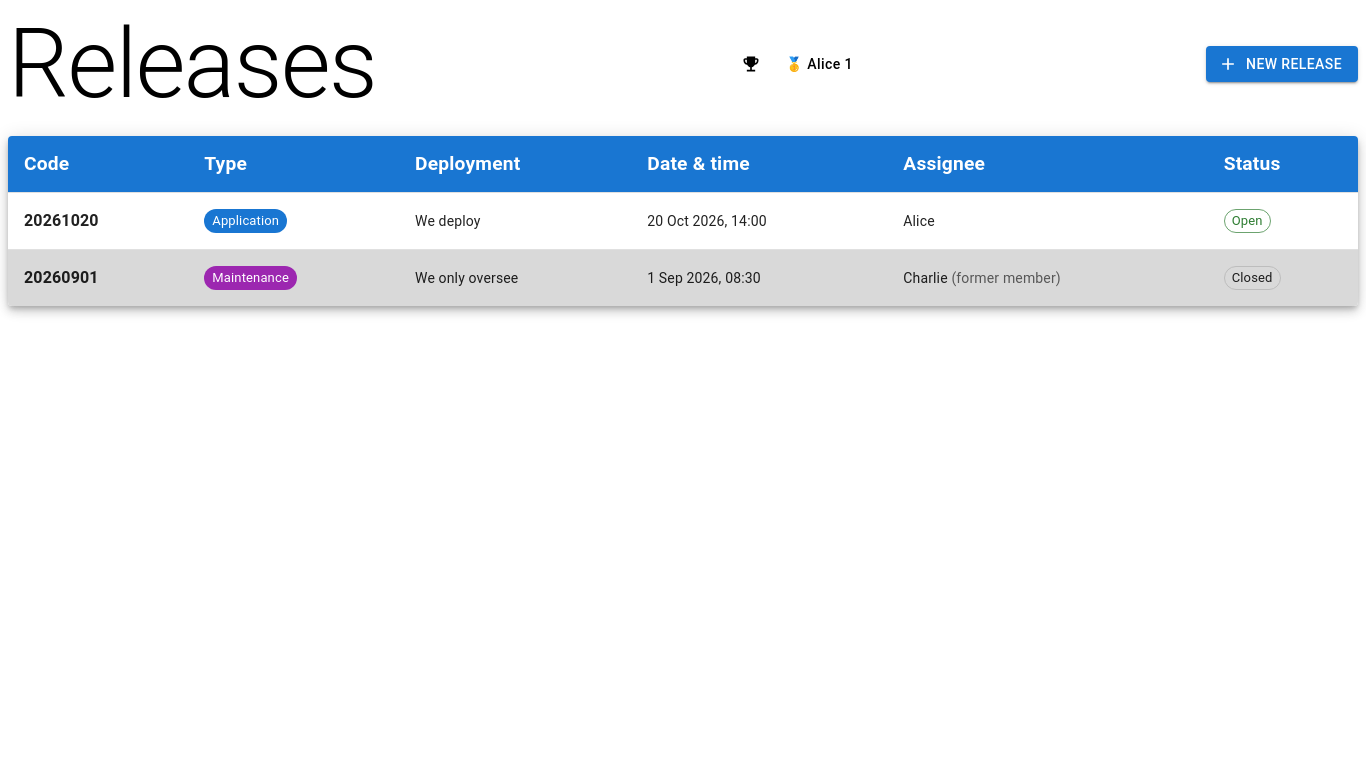
Test: ReleasesScreen › Creating a release › keeps the modal open and shows the server error on conflict
Expected: the table is shown, [8, 136, 1358, 306]
Click the button "New release" at (1282, 64), box [1206, 46, 1358, 82]
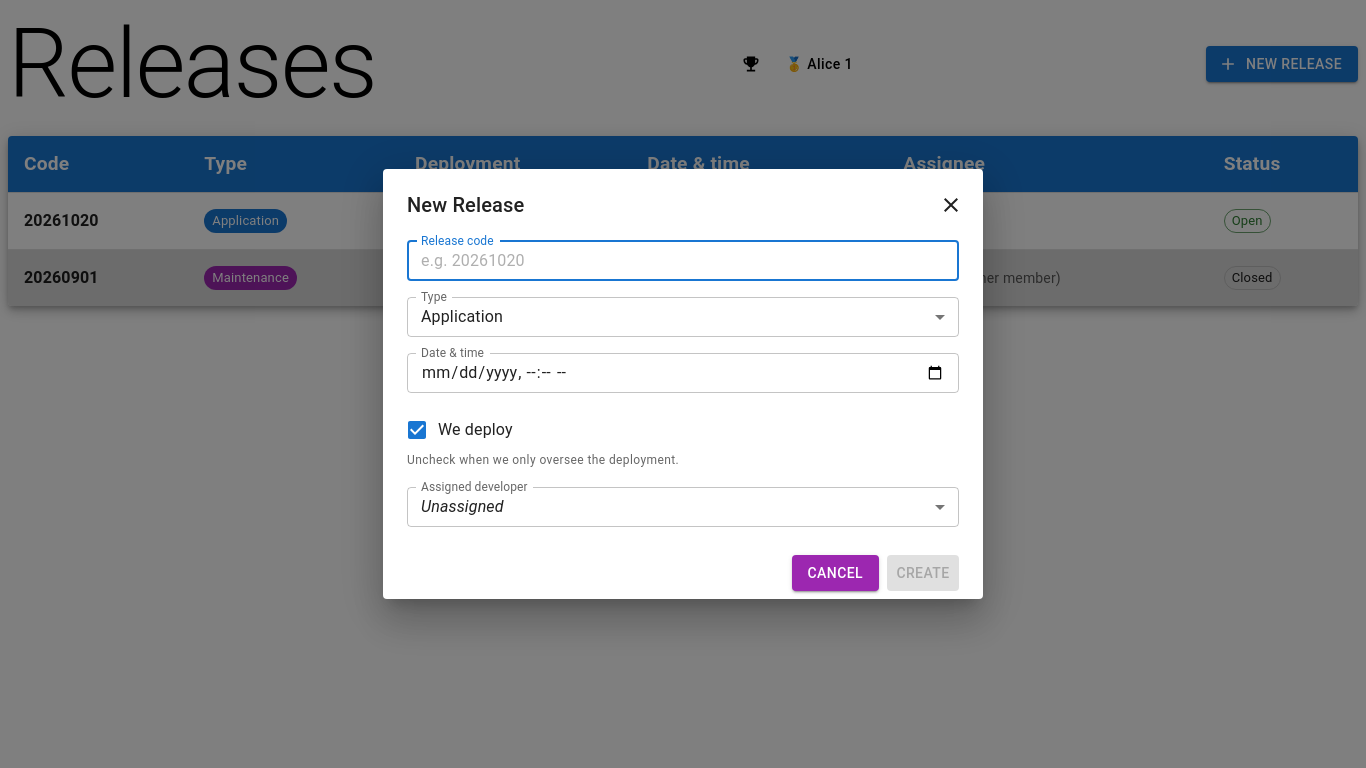
Type "20261105" into the field labelled "Release code" at (683, 261), box [407, 241, 959, 281]
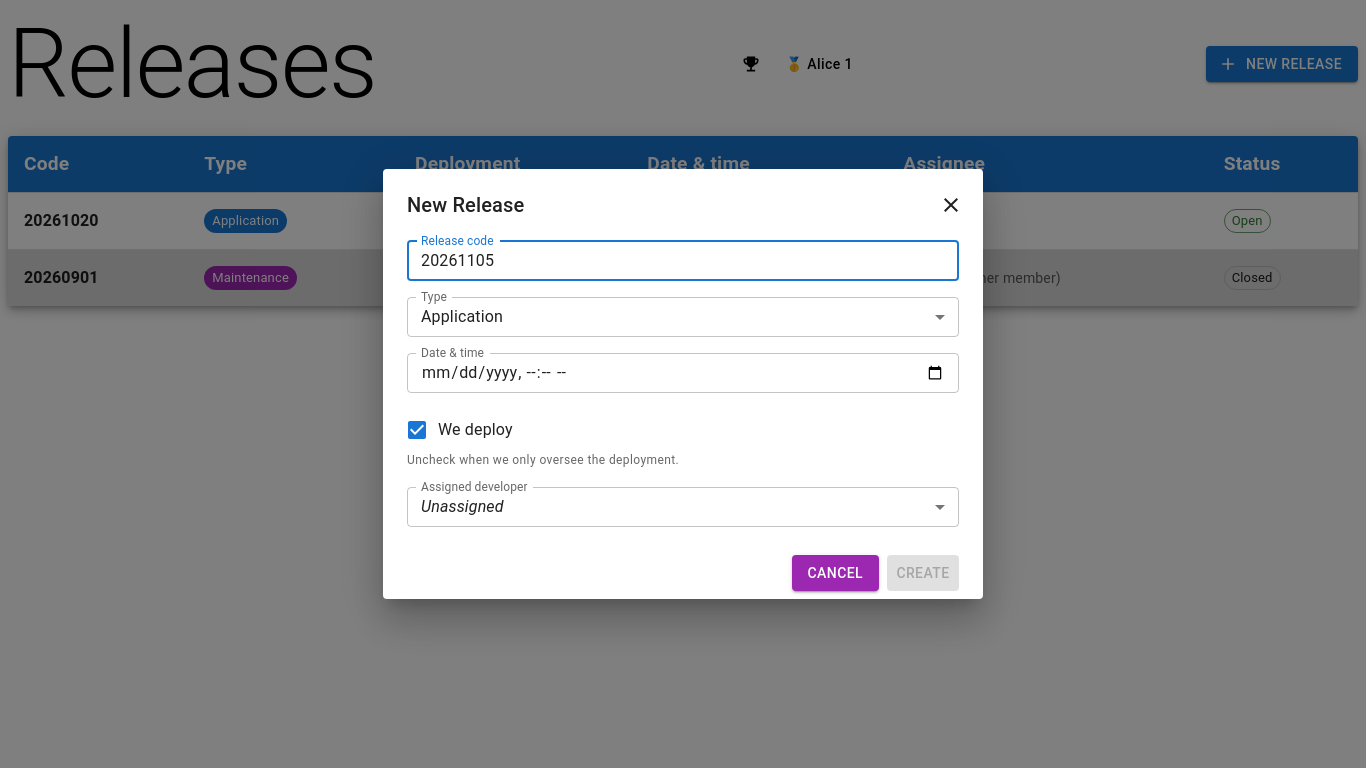
Type "2026-11-05T09:00" into the field labelled "Date & time" at (683, 373), box [407, 353, 959, 393]
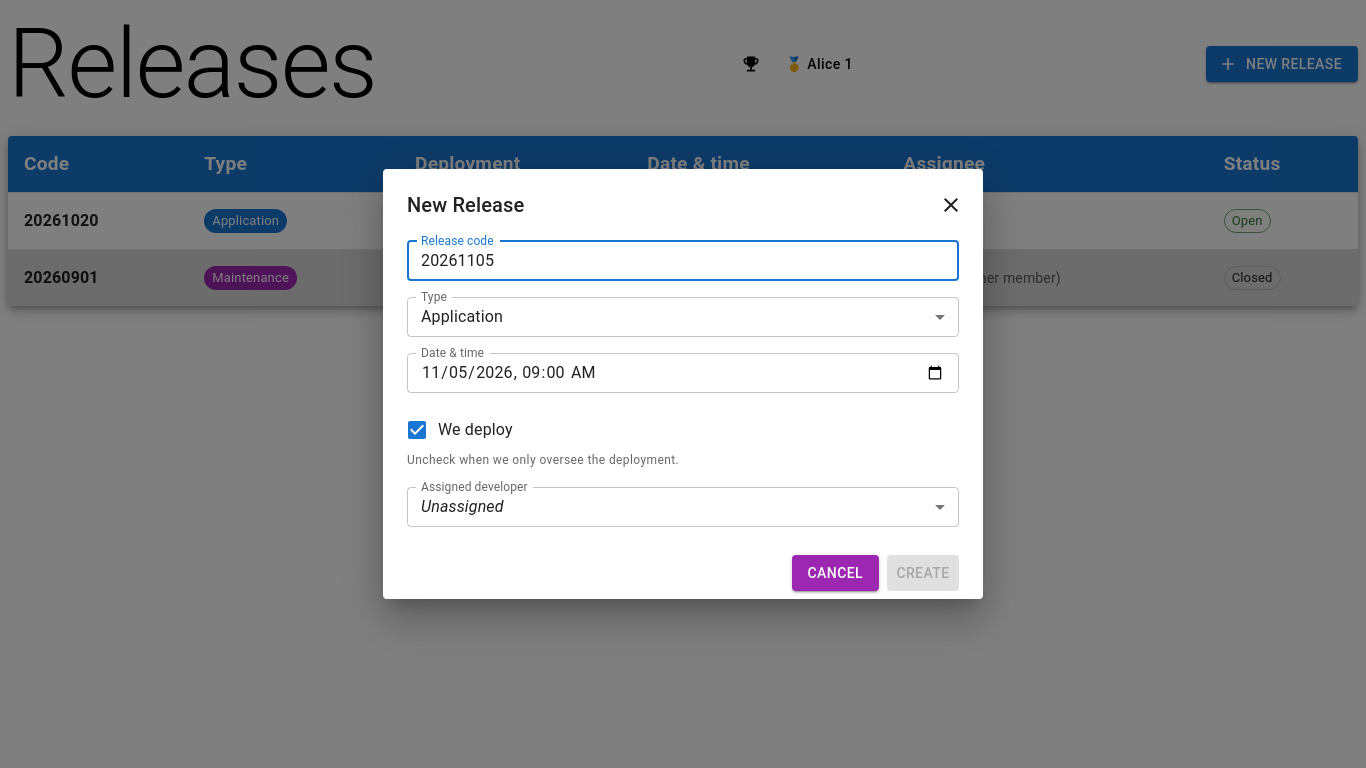
Press the mouse on the dropdown named "Assigned developer" at (462, 507), box [421, 497, 504, 516]
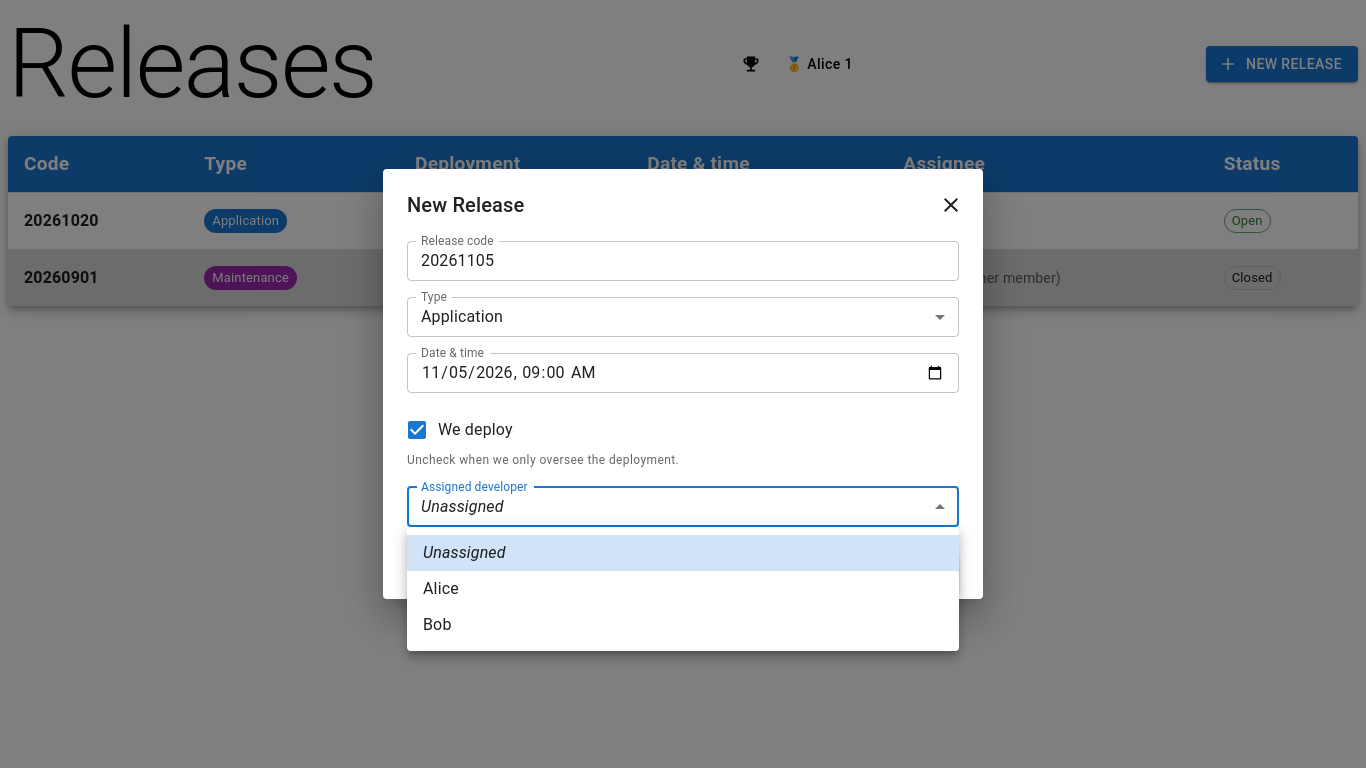
Click the option "Bob" at (437, 624), box [423, 615, 452, 634]
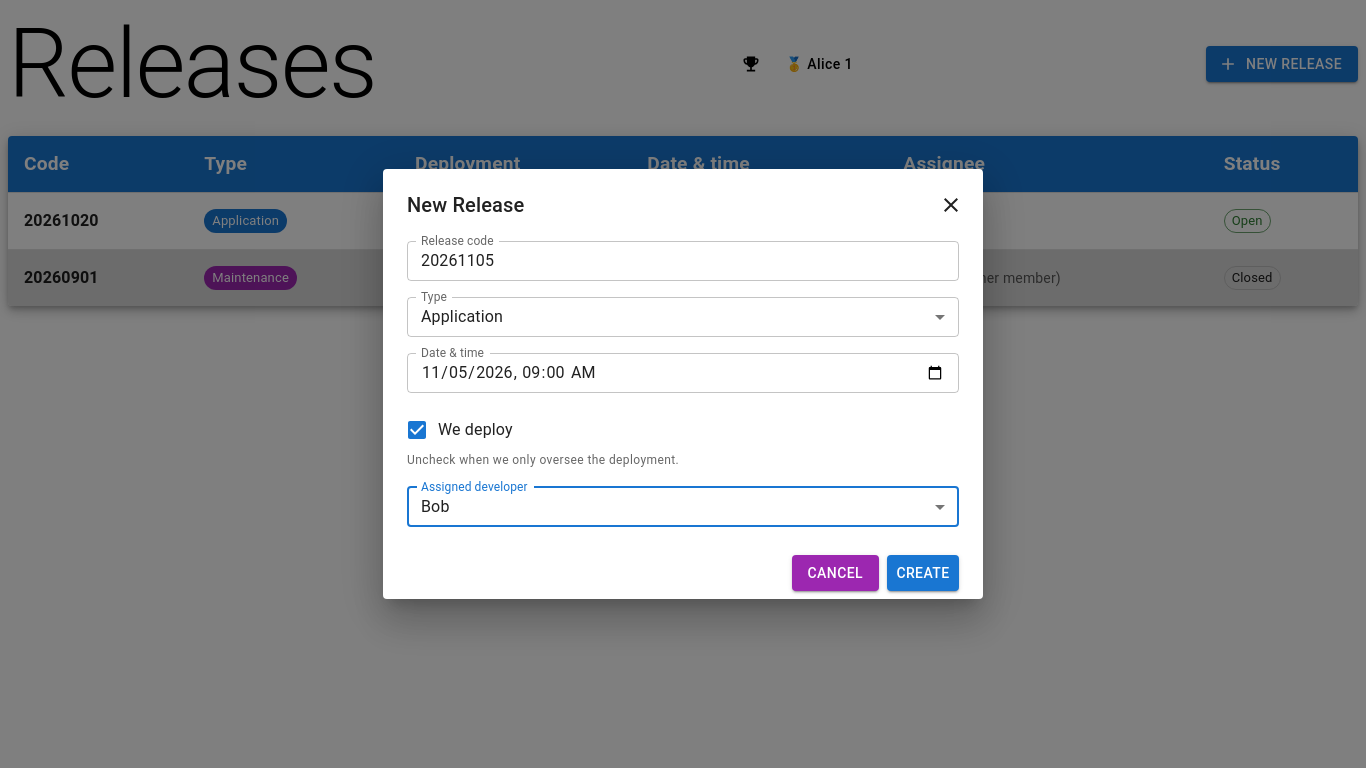
Expected: the button "Create" is enabled
Click the button "Create" at (923, 573), box [887, 555, 959, 591]
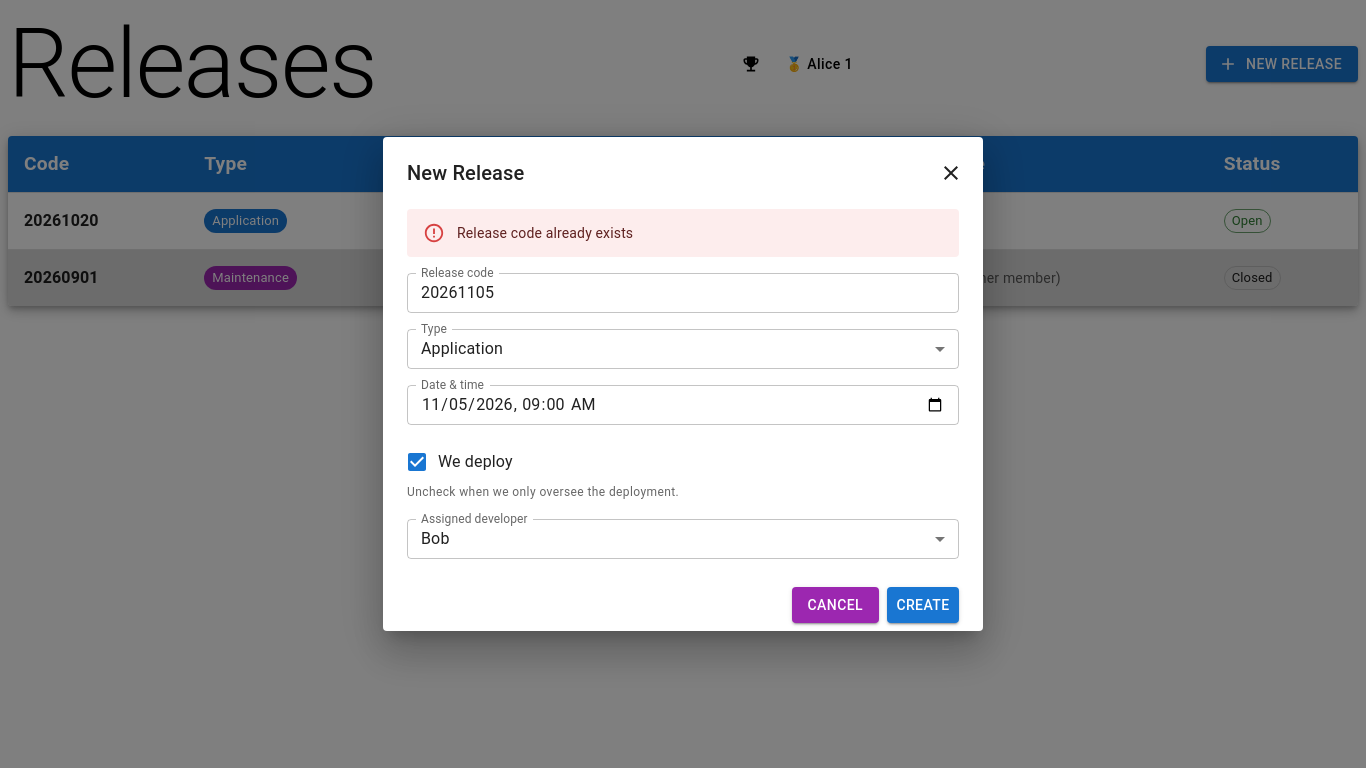
Expected: the dialog is shown, [383, 137, 983, 631]
Expected: the text "Release code already exists" is shown, [457, 225, 633, 241]
